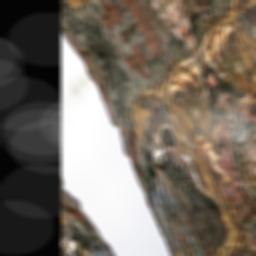Woodpecker: (142, 111, 231, 245)
